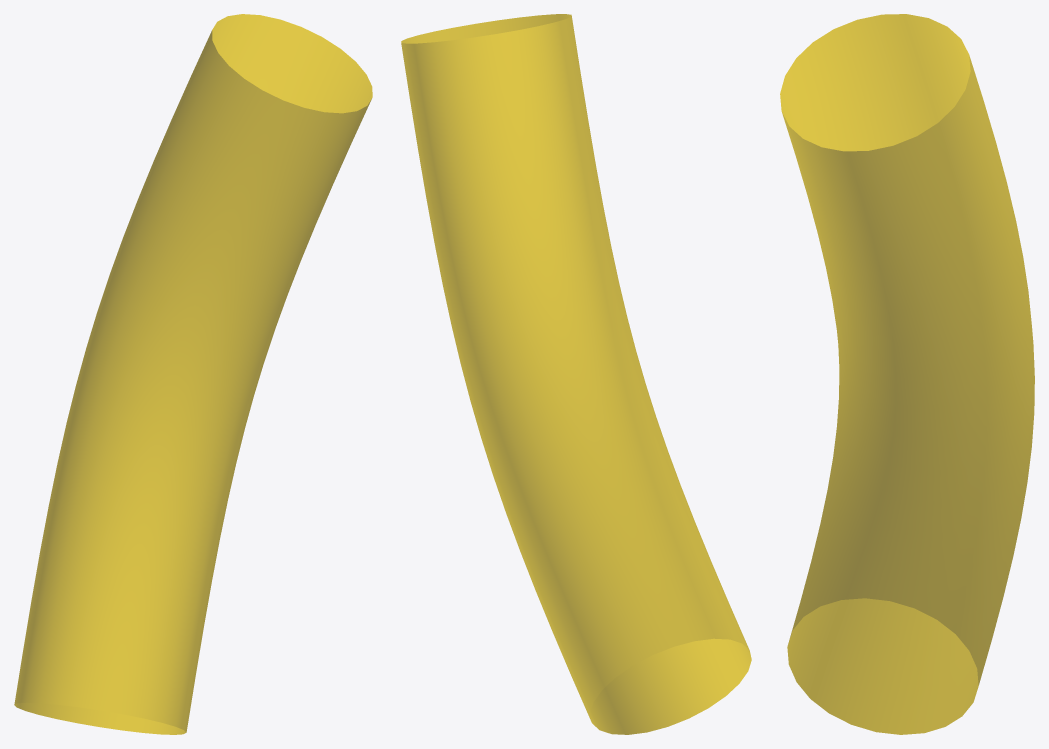
File: Event_402970704_track_52.fbx
3 views of the same model, side by side, from view 1: azimuth 30°, elevation 25°; view 2: azimuth 150°, elevation 25°; view 3: azimuth 270°, elevation 25° (orthographic). The views are drawn at different scales.
Parts seen in each view (by area): view 1: Model; view 2: Model; view 3: Model.
Part boxes in pixels (left/top/right/bottom): Model: left=14, top=14, right=372, bottom=734; Model: left=401, top=14, right=751, bottom=734; Model: left=780, top=14, right=1034, bottom=734.
Size of the model in its own units: 0.0879 by 0.1696 by 0.052.
